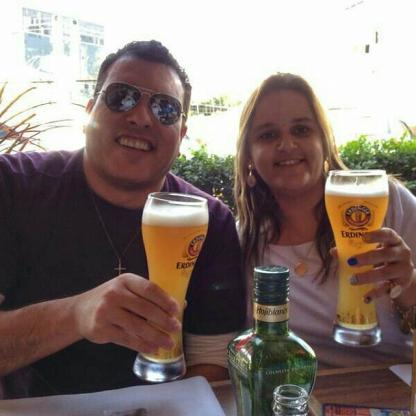drinking: (132, 192, 209, 383), (324, 169, 390, 348)
